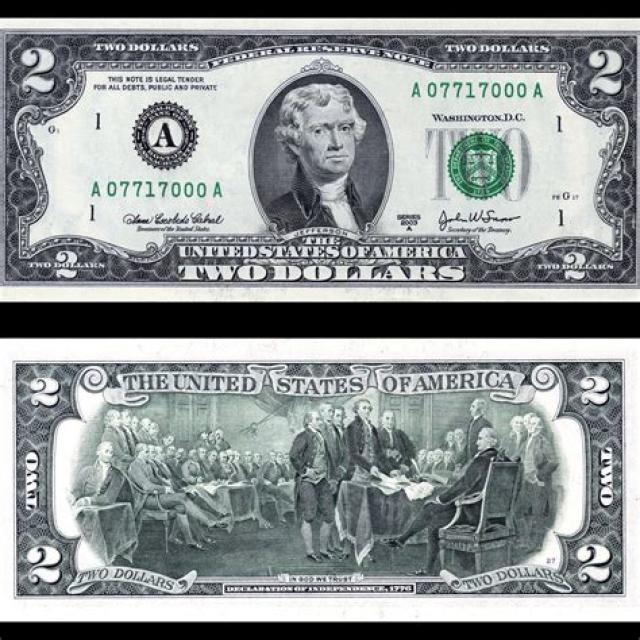Two: (0, 18, 640, 300), (0, 339, 639, 618)
